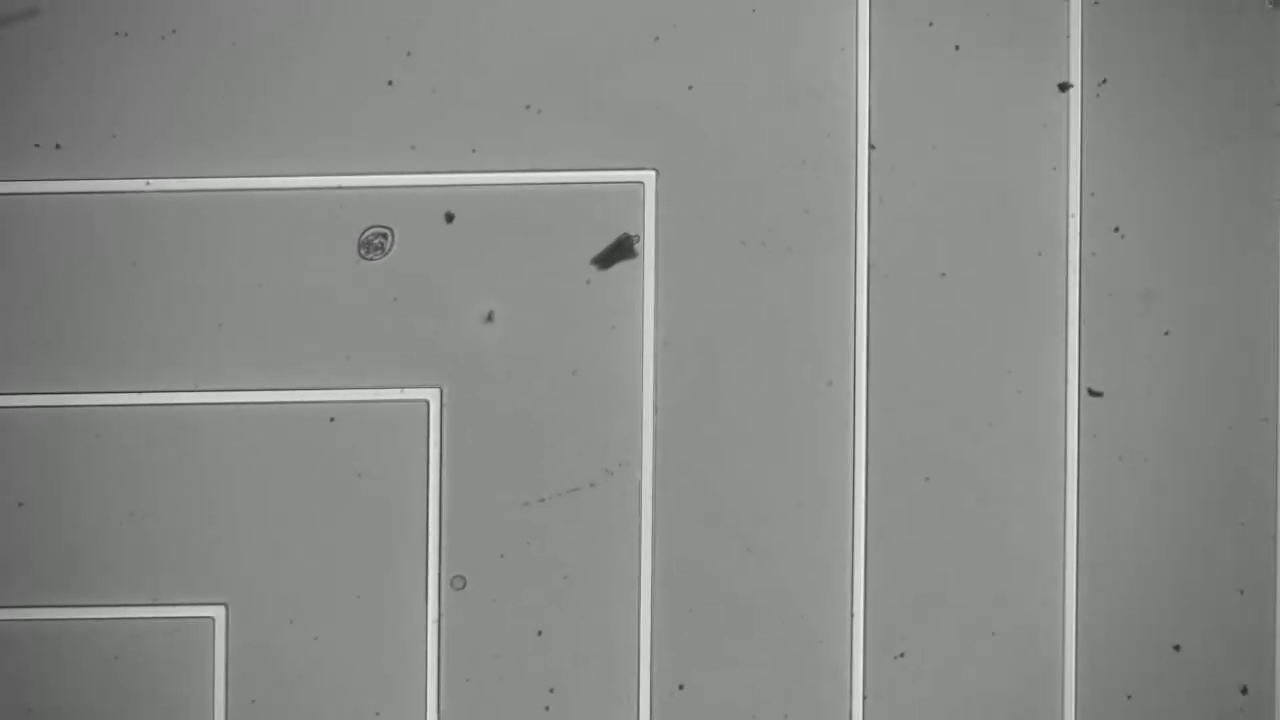scratch: (505, 461, 624, 508)
stains_enbedded: (1042, 74, 1096, 105)
